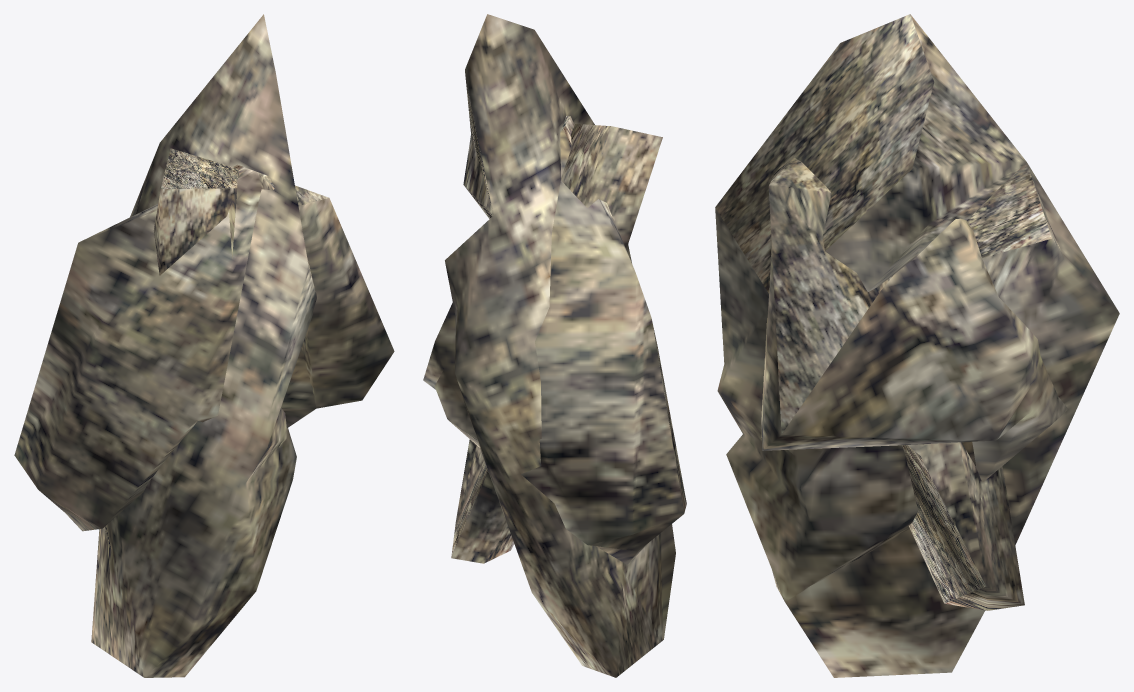
Rendered from WhiteRockPieces.gltf.
The picture shows the model from 3 angles, left to right: view 1: azimuth 30°, elevation 25°; view 2: azimuth 150°, elevation 25°; view 3: azimuth 270°, elevation 25°; orthographic projection. The views are drawn at different scales.
Visible parts, largest first — view 1: WhiteRockPiece1, WhiteRockPiece4, WhiteRockPiece3; view 2: WhiteRockPiece1, WhiteRockPiece4, WhiteRockPiece3; view 3: WhiteRockPiece1, WhiteRockPiece4, WhiteRockPiece3.
Boxes of the visible parts, x1,y1,x2,y2 form: WhiteRockPiece1: [91, 14, 316, 677]; WhiteRockPiece4: [14, 164, 394, 531]; WhiteRockPiece3: [153, 148, 238, 275]; WhiteRockPiece1: [445, 14, 675, 677]; WhiteRockPiece4: [423, 115, 686, 564]; WhiteRockPiece3: [451, 124, 662, 563]; WhiteRockPiece1: [715, 14, 1119, 677]; WhiteRockPiece4: [761, 157, 1068, 481]; WhiteRockPiece3: [902, 442, 1024, 610].
Bounding box in the file's own units: 0.9928 × 2.02 × 1.02.
Materials: 1 (1 with a texture image).
